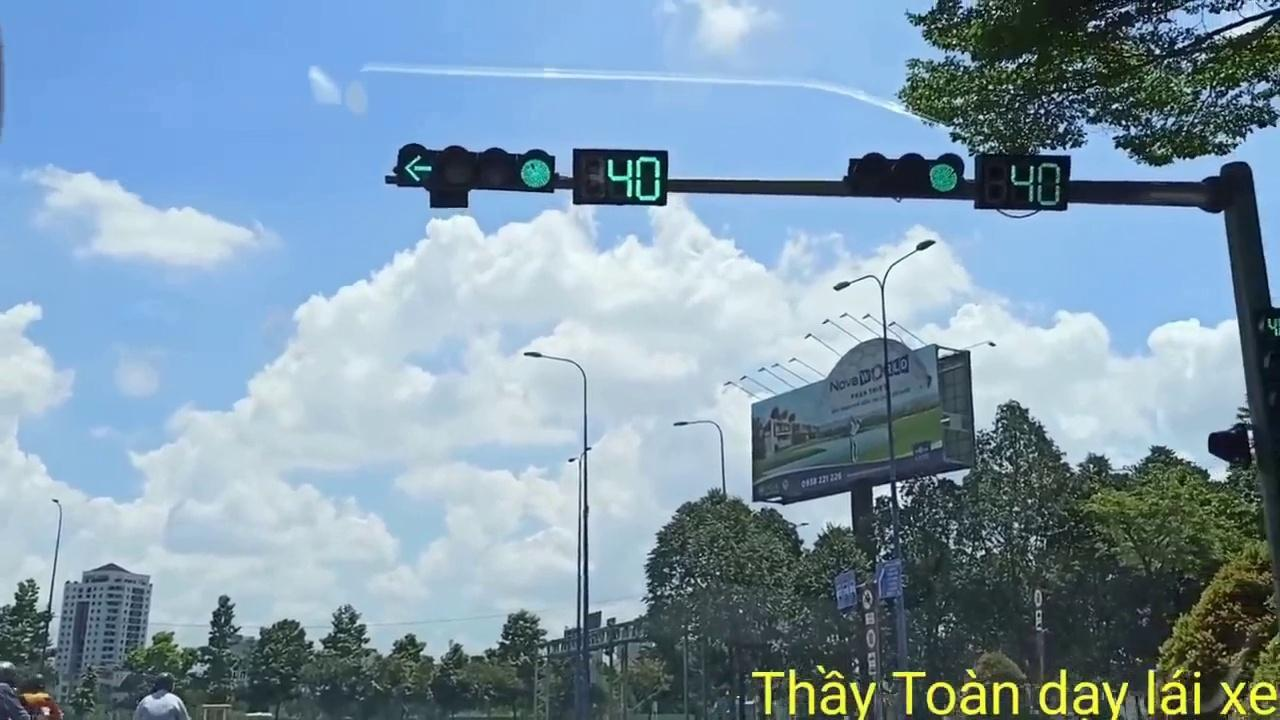Biển phụ: (865, 650, 879, 677), (1034, 609, 1044, 631), (862, 612, 877, 626)
Chỉ hướng đường: (874, 561, 904, 599)
Cấm xe máy: (860, 590, 874, 610)
Làn đường cho từng xe: (831, 570, 859, 609)
